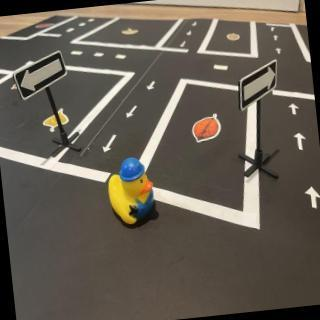duck_specialty: (106, 156, 158, 230)
road_oneway: (302, 179, 320, 214), (99, 131, 123, 155), (124, 102, 142, 123), (293, 129, 308, 154), (288, 100, 302, 120), (145, 79, 159, 94), (275, 45, 284, 57), (186, 28, 195, 38), (179, 40, 188, 49), (192, 20, 201, 28), (274, 34, 281, 43), (270, 26, 277, 33)
sign_oneway_left: (12, 49, 72, 105)
sign_oneway_right: (236, 59, 281, 114)
